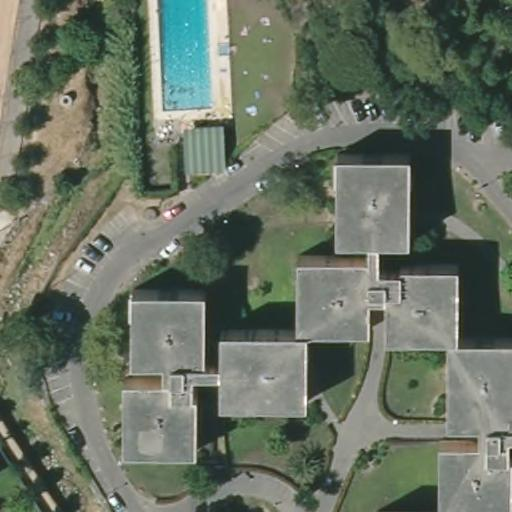pool: (149, 0, 219, 113)
